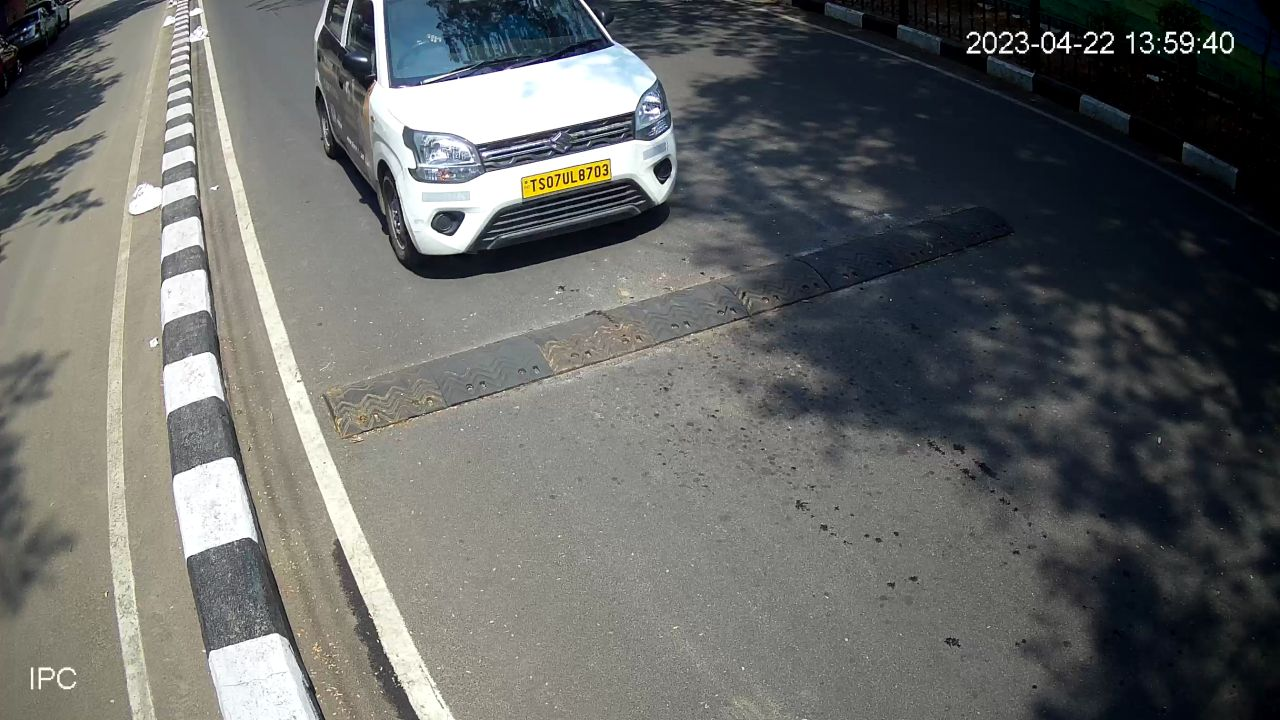license_plate: (521, 153, 616, 206)
